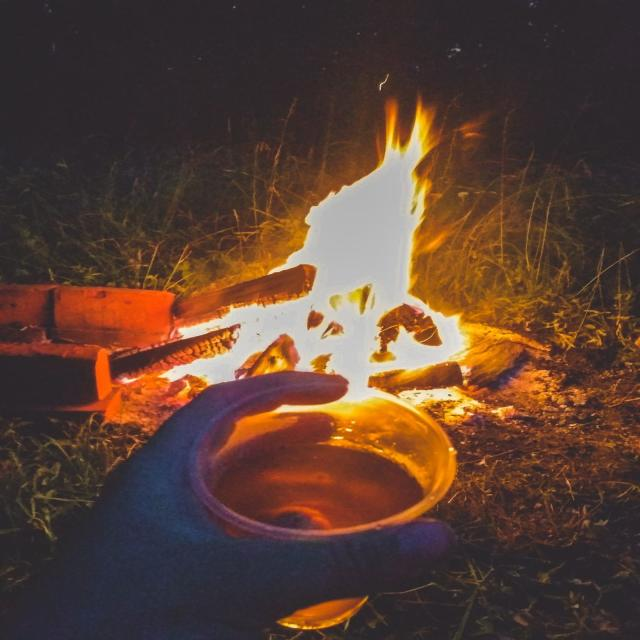fire: (160, 96, 467, 399)
